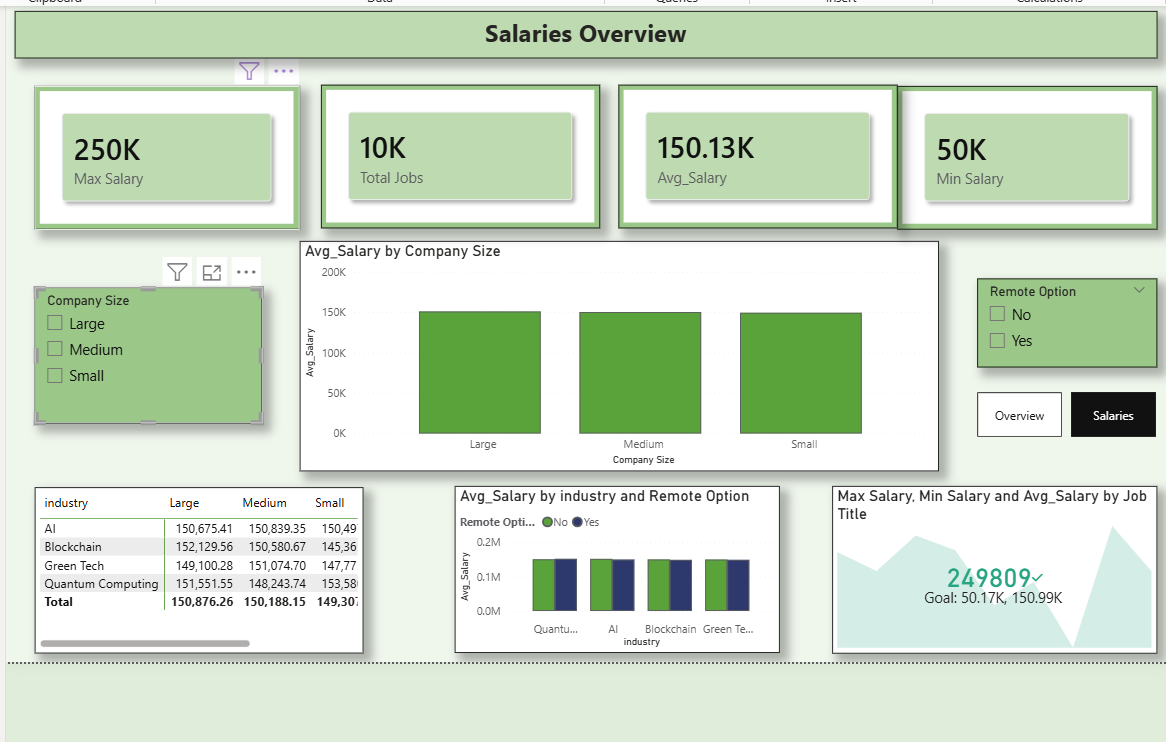

Layout of this report page (visuals, bound fields, positions):
{"tool":"powerbi","page":{"name":"Salaries","canvas":[1280,720],"ordinal":1},"visuals":[{"type":"clusteredColumnChart","fields":{"Category":["future_jobs_dataset.Company Size"],"Y":["future_jobs_dataset.Avg_Salary"]},"box":[322.5,258,701.2,252.5],"z":0},{"type":"pivotTable","fields":{"Rows":["future_jobs_dataset.industry"],"Columns":["future_jobs_dataset.Company Size"],"Values":["future_jobs_dataset.Avg_Salary"]},"box":[31.8,528.3,360.7,182.2],"z":1},{"type":"kpi","fields":{"Indicator":["future_jobs_dataset.Max Salary"],"Goal":["future_jobs_dataset.Min Salary","future_jobs_dataset.Avg_Salary"],"TrendLine":["future_jobs_dataset.Job Title"]},"box":[907,526.9,356.8,183.9],"z":2},{"type":"cardVisual","fields":{"Data":["future_jobs_dataset.Total Jobs"]},"box":[346.2,86.5,306.3,158],"z":4},{"type":"slicer","fields":{"Values":["future_jobs_dataset.Remote Option"]},"box":[1066.2,299.1,197.6,97.4],"z":5},{"type":"slicer","fields":{"Values":["future_jobs_dataset.Company Size"]},"box":[31.6,308.7,249.7,149.6],"z":6},{"type":"clusteredColumnChart","fields":{"Category":["future_jobs_dataset.industry"],"Series":["future_jobs_dataset.Remote Option"],"Y":["future_jobs_dataset.Avg_Salary"]},"box":[492.8,527,357.1,183.4],"z":7},{"type":"cardVisual","fields":{"Data":["future_jobs_dataset.Max Salary"]},"box":[31.6,87.8,290.9,157.8],"z":8},{"type":"cardVisual","fields":{"Data":["future_jobs_dataset.Min Salary"]},"box":[978.1,87.9,285.7,158],"z":9},{"type":"pageNavigator","box":[1066.2,424,197.6,49.4],"z":10},{"type":"textbox","box":[9.6,5.5,1254.2,52.1],"z":11},{"type":"cardVisual","fields":{"Data":["future_jobs_dataset.Avg_Salary"]},"box":[671.7,86.5,306.3,158],"z":12}]}

Visuals, with their boxes in screenshot pixels (x1, y1, x2, y2):
clusteredColumnChart - future_jobs_dataset.Company Size x future_jobs_dataset.Avg_Salary: [305,238,935,465]
pivotTable - future_jobs_dataset.industry x future_jobs_dataset.Company Size: [44,481,368,644]
kpi - future_jobs_dataset.Max Salary x future_jobs_dataset.Min Salary: [830,479,1151,645]
cardVisual - future_jobs_dataset.Total Jobs: [326,84,601,226]
slicer - future_jobs_dataset.Remote Option: [973,275,1151,362]
slicer - future_jobs_dataset.Company Size: [44,283,268,418]
clusteredColumnChart - future_jobs_dataset.industry x future_jobs_dataset.Remote Option: [458,479,779,644]
cardVisual - future_jobs_dataset.Max Salary: [44,85,305,227]
cardVisual - future_jobs_dataset.Min Salary: [894,85,1151,227]
pageNavigator: [973,387,1151,431]
textbox: [24,11,1151,58]
cardVisual - future_jobs_dataset.Avg_Salary: [619,84,894,226]
